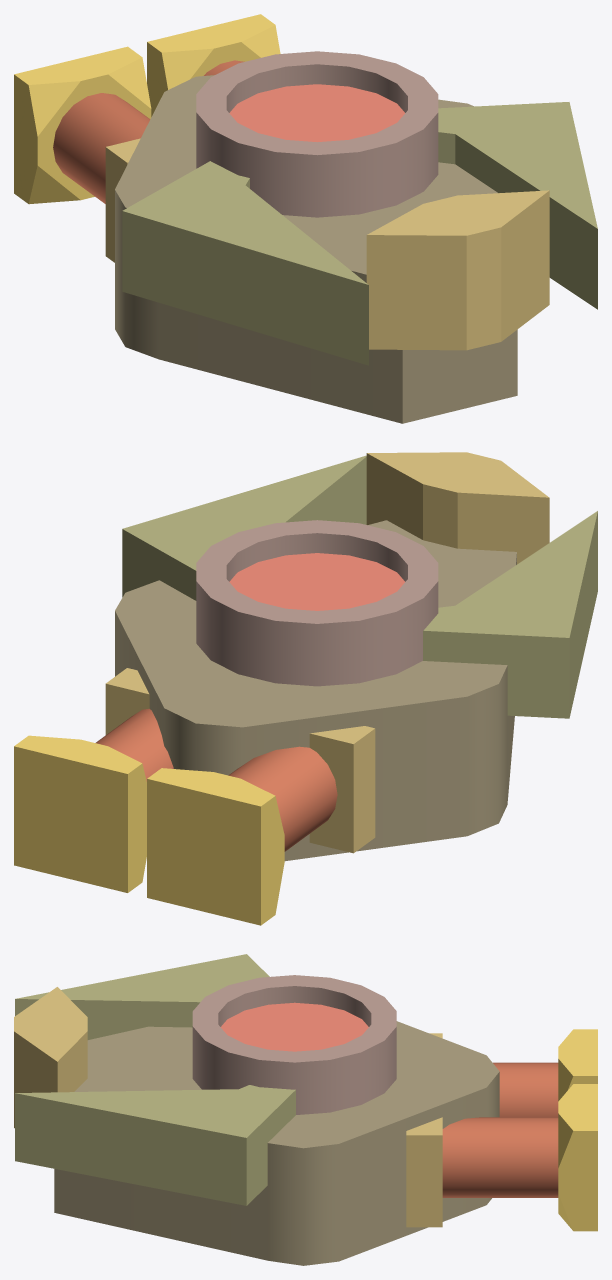
File: port30.fbx
The picture shows the model from 3 angles, top to bottom: view 1: azimuth 30°, elevation 25°; view 2: azimuth 150°, elevation 25°; view 3: azimuth 270°, elevation 25°; orthographic projection. The views are drawn at different scales.
Visible parts, largest first — view 1: polySurface98; view 2: polySurface98; view 3: polySurface98.
Part boxes in pixels (x1=…): polySurface98: x1=14, y1=14, x2=597, y2=423; polySurface98: x1=14, y1=452, x2=597, y2=925; polySurface98: x1=14, y1=954, x2=597, y2=1265.
Size of the model in its own units: 33.59 by 14.5 by 45.07.
